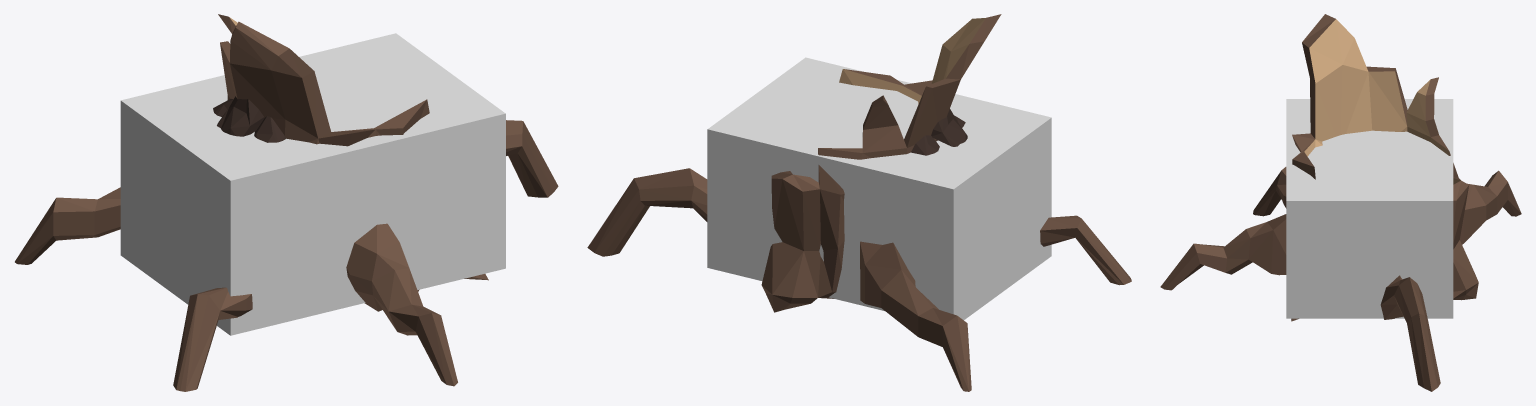
The model's file is elf_stump_1.glb.
The picture shows the model from 3 angles, left to right: view 1: azimuth 30°, elevation 25°; view 2: azimuth 150°, elevation 25°; view 3: azimuth 270°, elevation 25°; orthographic projection. The views are drawn at different scales.
Parts seen in each view (by area): view 1: Cube.001, STUMP_1; view 2: Cube.001, STUMP_1; view 3: Cube.001, STUMP_1.
Boxes of the visible parts, <box> form: Cube.001: <box>120,33,505,335</box>; STUMP_1: <box>15,14,558,391</box>; Cube.001: <box>707,57,1051,320</box>; STUMP_1: <box>587,14,1131,391</box>; Cube.001: <box>1286,99,1453,318</box>; STUMP_1: <box>1160,14,1521,391</box>.
Bounding box in the file's own units: 3.4 × 2.01 × 2.83.
Materials: 1 (1 with a texture image).
